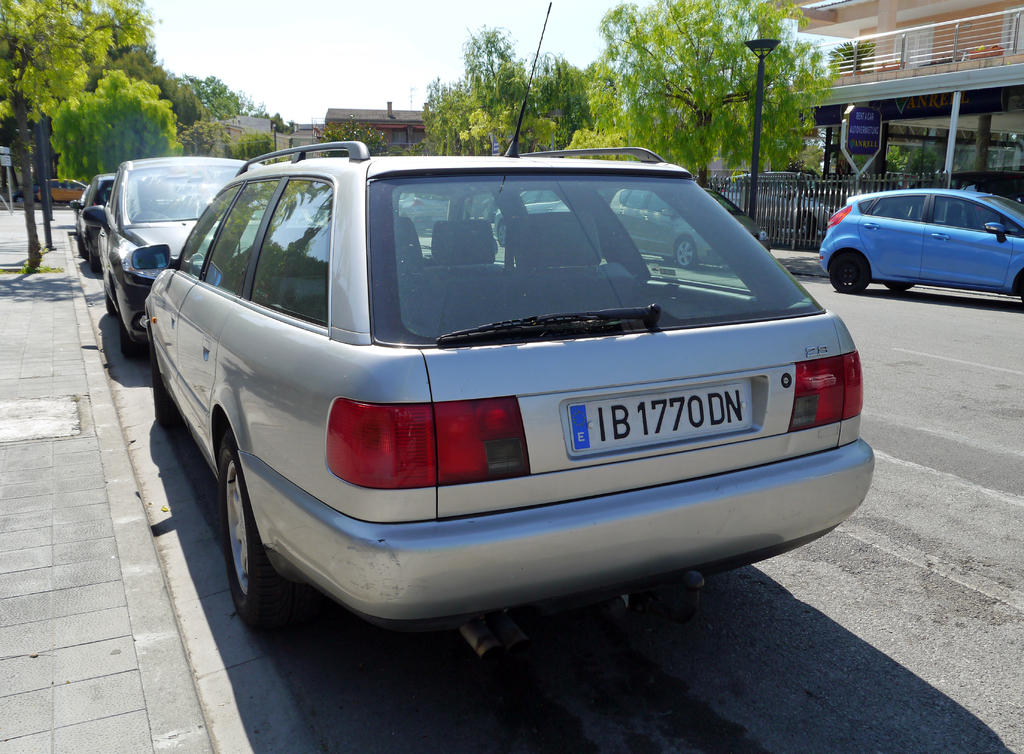license plate: (563, 404, 754, 456)
